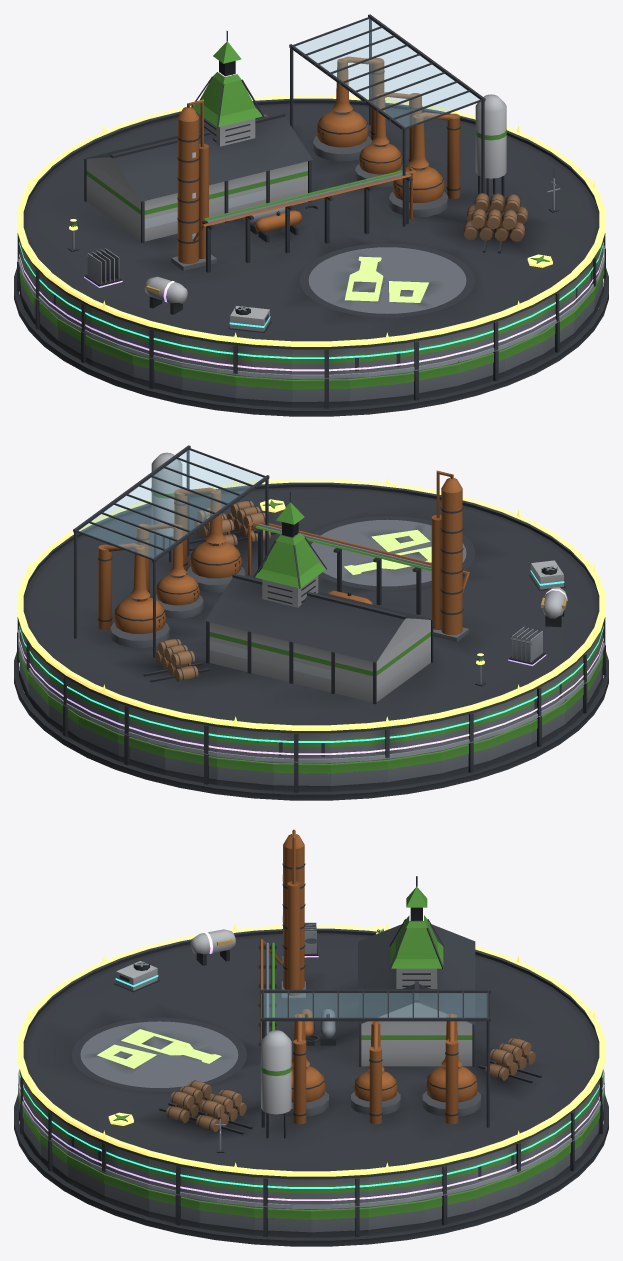
The model's file is distillery_xl_far.glb.
The picture shows the model from 3 angles, top to bottom: view 1: azimuth 30°, elevation 25°; view 2: azimuth 150°, elevation 25°; view 3: azimuth 270°, elevation 25°; orthographic projection.
Parts seen in each view (by area): view 1: Roof, Base, L5, L4, L2, L3; view 2: Roof, Base, L5, L4, L2, L3; view 3: Roof, Base, L5, L2, L4, L3.
Boxes of the visible parts, left/top/right/bottom form: Roof: left=17, top=14, right=605, bottom=377; Base: left=14, top=248, right=608, bottom=416; L5: left=17, top=95, right=605, bottom=346; L4: left=19, top=248, right=603, bottom=371; L2: left=18, top=169, right=604, bottom=378; L3: left=19, top=205, right=603, bottom=358; Roof: left=17, top=445, right=605, bottom=761; Base: left=14, top=632, right=608, bottom=800; L5: left=17, top=477, right=605, bottom=730; L4: left=19, top=587, right=603, bottom=754; L2: left=18, top=629, right=604, bottom=762; L3: left=19, top=560, right=603, bottom=742; Roof: left=19, top=829, right=603, bottom=1206; Base: left=14, top=1083, right=608, bottom=1246; L5: left=17, top=923, right=605, bottom=1176; L2: left=18, top=1069, right=604, bottom=1208; L4: left=19, top=922, right=603, bottom=1200; L3: left=19, top=961, right=603, bottom=1188.
Bounding box in the file's own units: 23.15 × 9.85 × 23.15.
